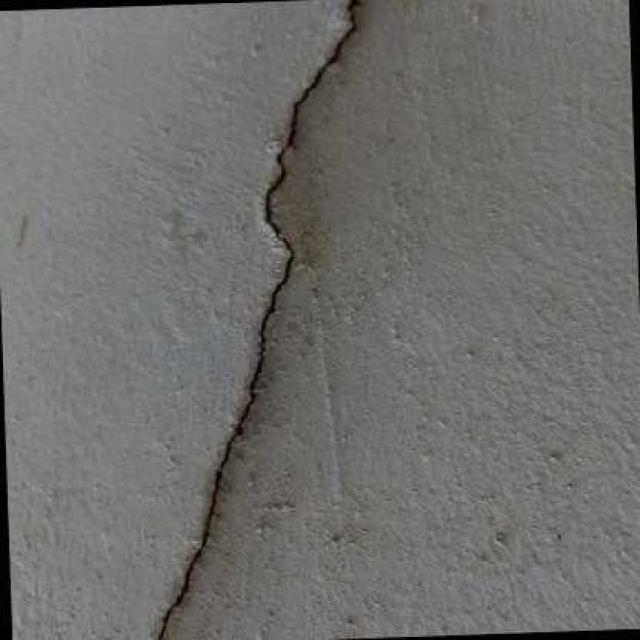D00: (154, 0, 357, 640)
